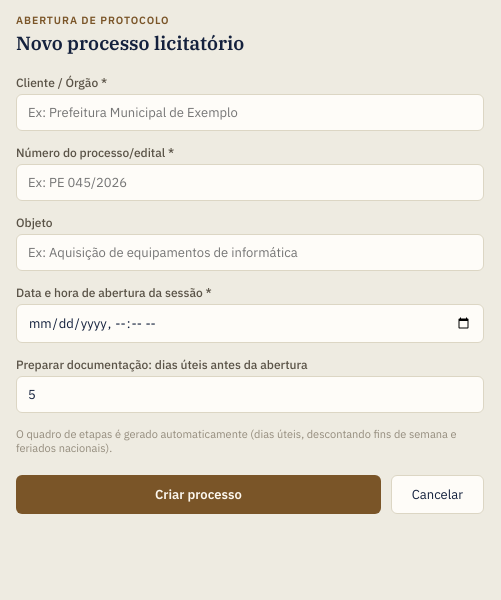
it: FormularioProcesso › exibe avisos de mesmo dia sem fechar o formulário
Type "Prefeitura X" into the field with placeholder "Ex: Prefeitura Municipal de Exemplo".
click(250, 112); type("Prefeitura X")  # box [16,94,484,131]
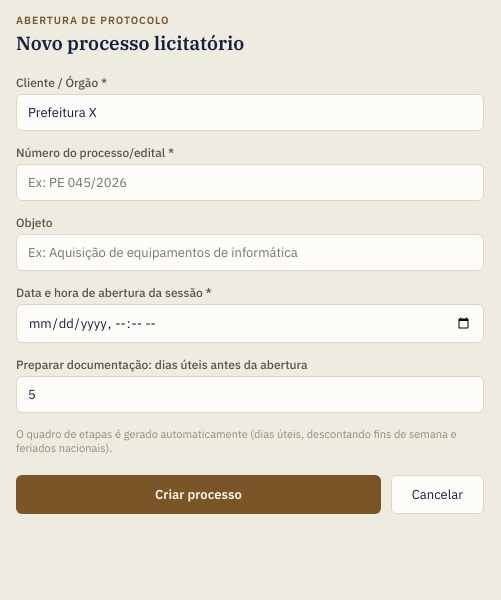
Type "PE 045/2026" into the field with placeholder "Ex: PE 045/2026".
click(250, 182); type("PE 045/2026")  # box [16,164,484,201]
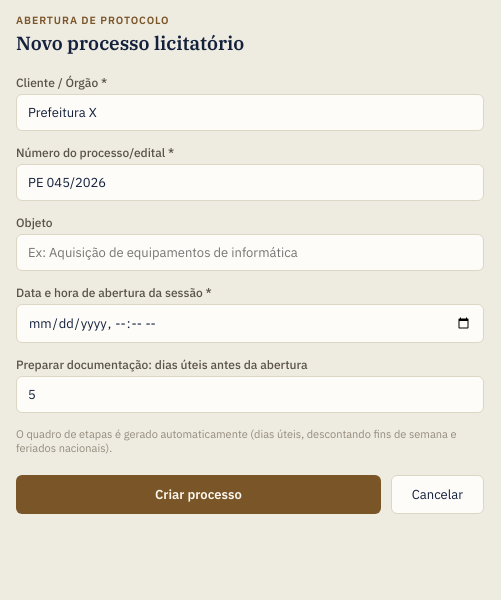
Type "2026-08-18T09:00" into the field labelled "Data e hora de abertura da sessão *".
click(250, 324); type("2026-08-18T09:00")  # box [16,304,484,343]
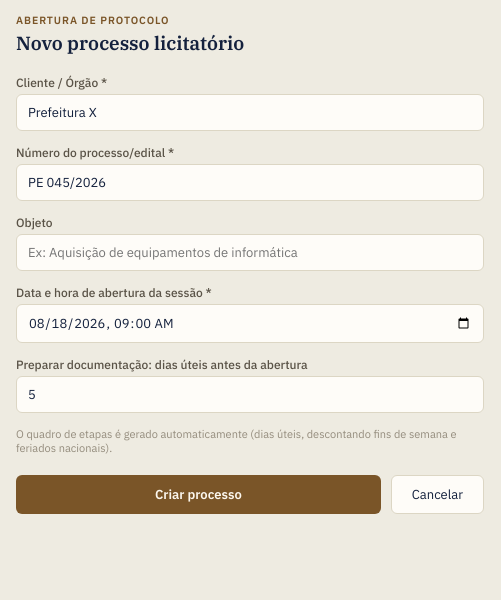
Click the button "Criar processo".
click(198, 494)  # box [16,475,381,514]
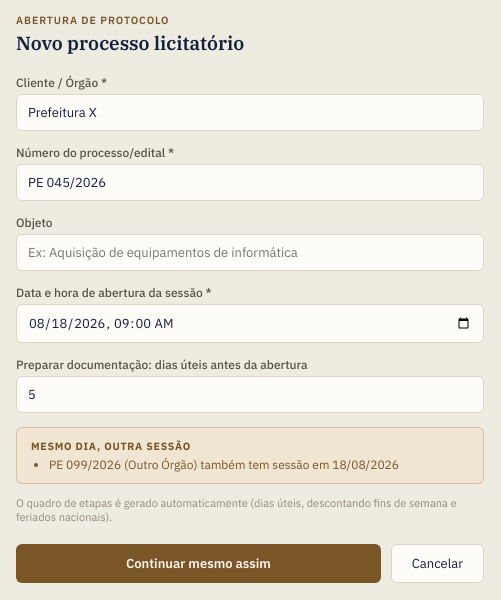
expect the list item "PE 099/2026 (Outro Órgão) também tem sessão em 18/08/2026" is shown: met, box [49,457,399,472]
expect the button "Continuar mesmo assim" is shown: met, box [16,544,381,583]
